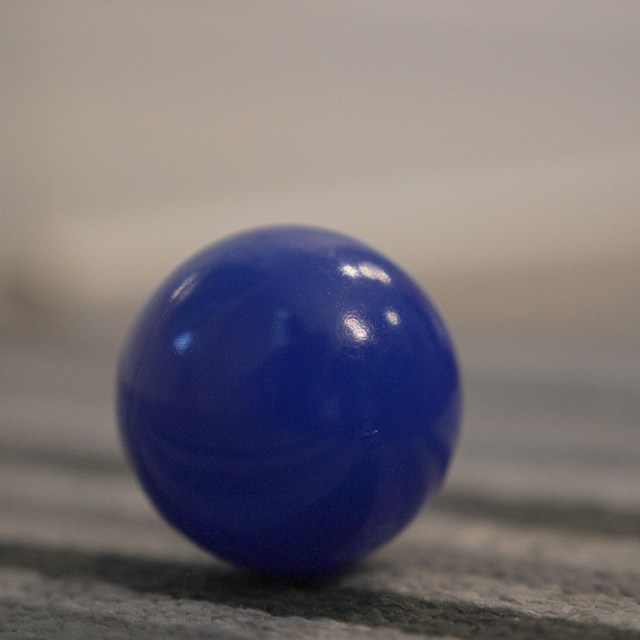Ball: (117, 224, 462, 574)
